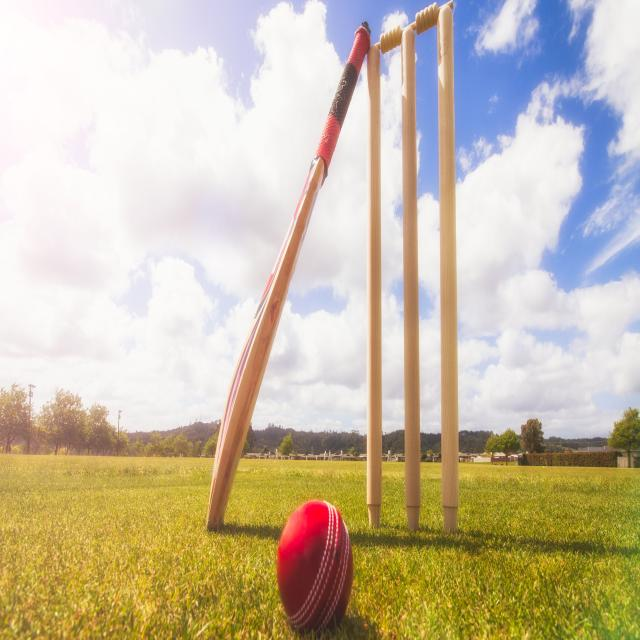stump: (366, 2, 459, 533)
